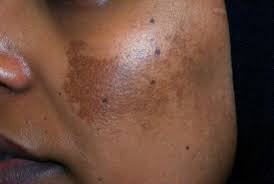Melasma: (152, 0, 191, 29)
